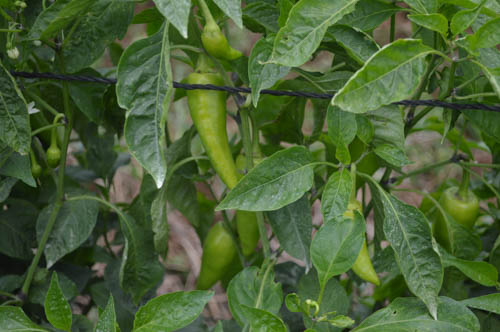ChiliPepper: (189, 72, 240, 188), (437, 188, 479, 274), (338, 201, 378, 288), (193, 221, 233, 298), (236, 196, 262, 259), (204, 26, 241, 60)
